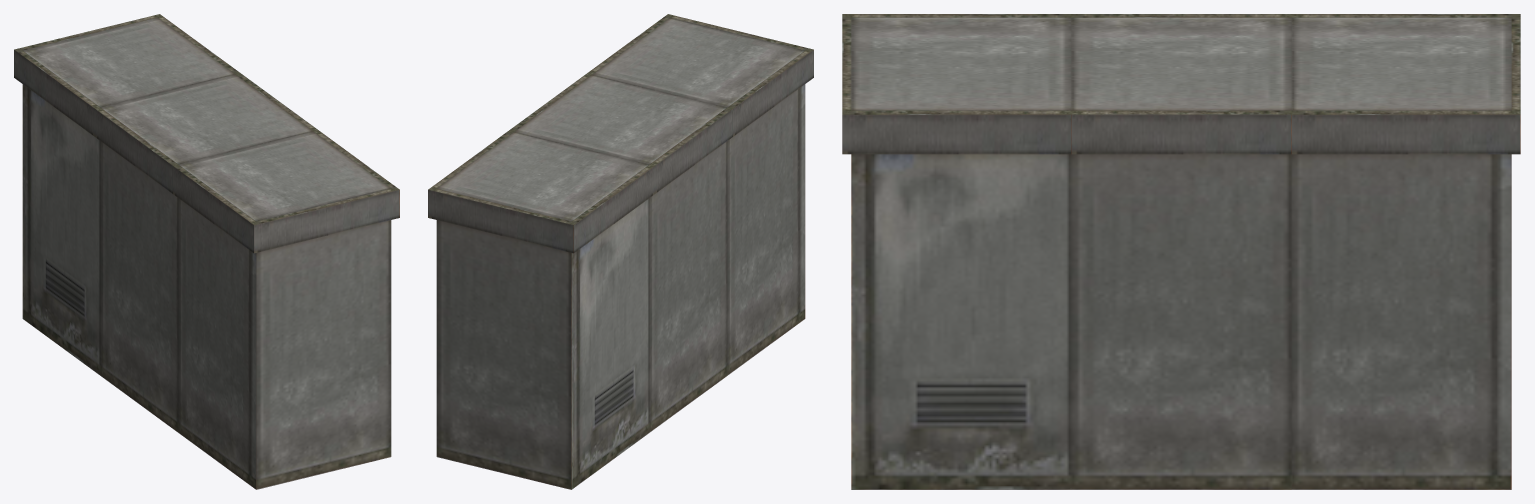
Rendered from ElectricBox.fbx.
3 renders of one model, left to right at view 1: azimuth 30°, elevation 25°; view 2: azimuth 150°, elevation 25°; view 3: azimuth 270°, elevation 25°, orthographic. The views are drawn at different scales.
Visible parts, largest first — view 1: ElectricBox.001; view 2: ElectricBox.001; view 3: ElectricBox.001.
Part boxes in pixels (x1=…): ElectricBox.001: x1=14, y1=14, x2=399, y2=489; ElectricBox.001: x1=428, y1=14, x2=813, y2=489; ElectricBox.001: x1=842, y1=14, x2=1520, y2=489.
Size of the model in its own units: 108 by 190 by 308.
Materials: 1 (1 with a texture image).
